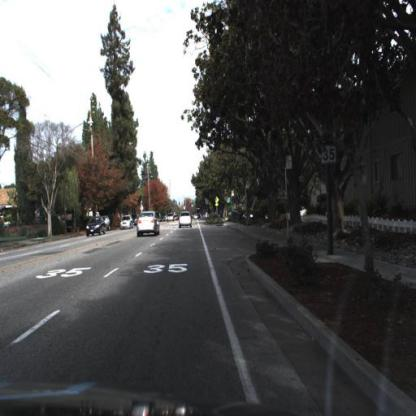car: (136, 211, 161, 239), (87, 217, 109, 238), (177, 209, 195, 230)
